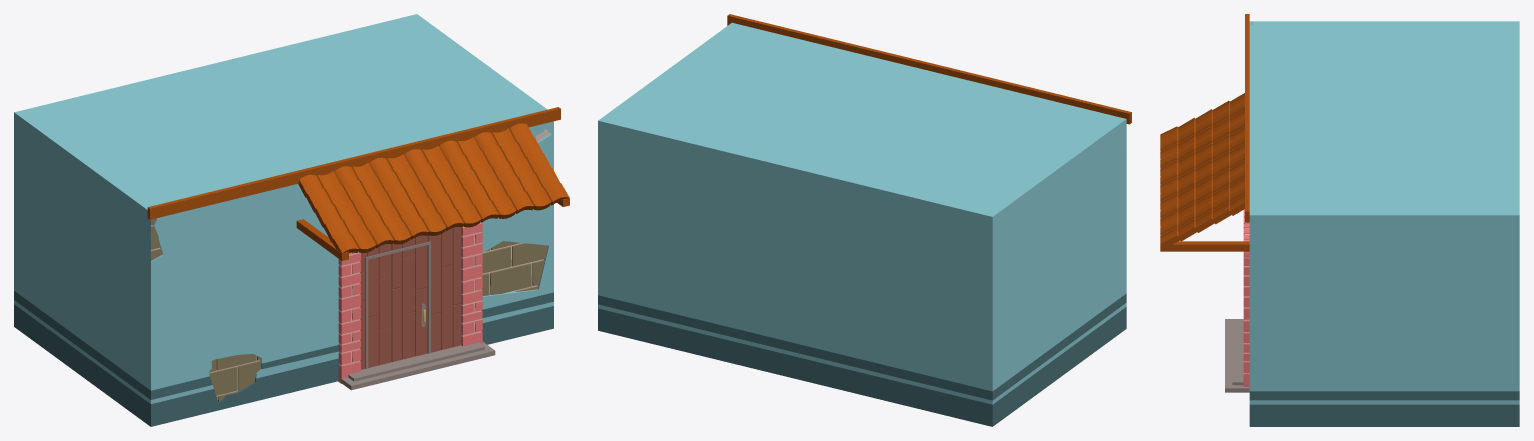
The model's file is HGO_HDO_CASA_VERDE.fbx.
3 renders of one model, left to right at view 1: azimuth 30°, elevation 25°; view 2: azimuth 150°, elevation 25°; view 3: azimuth 270°, elevation 25°, orthographic. The views are drawn at different scales.
Parts seen in each view (by area): view 1: HGO_HDO_CASA01_LOD0; view 2: HGO_HDO_CASA01_LOD0; view 3: HGO_HDO_CASA01_LOD0.
Part boxes in pixels (<box>): HGO_HDO_CASA01_LOD0: <box>14,14,569,426</box>; HGO_HDO_CASA01_LOD0: <box>598,14,1131,426</box>; HGO_HDO_CASA01_LOD0: <box>1160,14,1519,426</box>.
Size of what is drawn, in the model's own units: 603 by 310 by 463.
